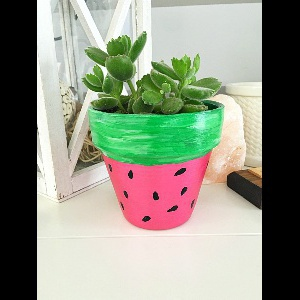flowerpot: (87, 93, 226, 232)
